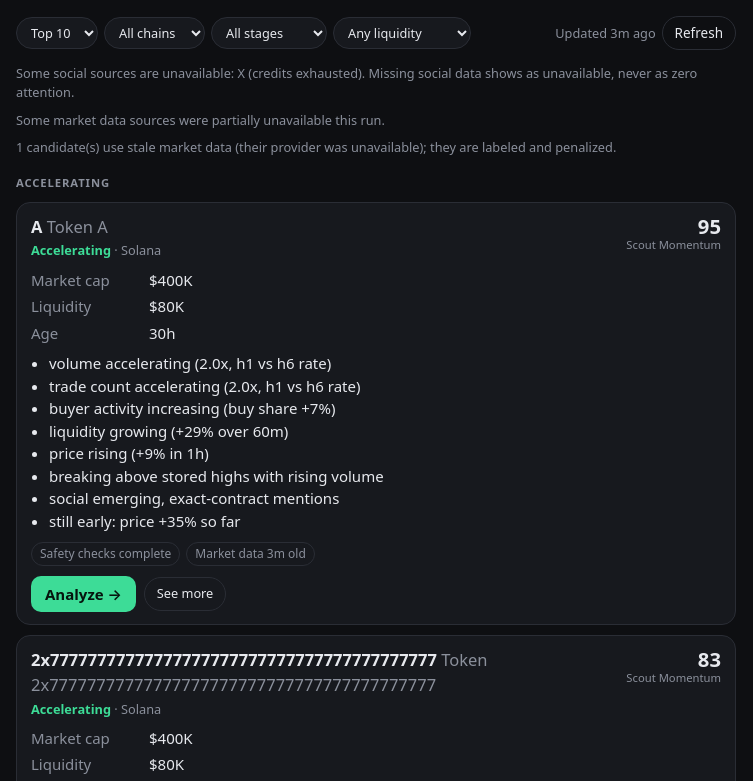
Test: Scout refresh › keeps the last results when a refresh fails
Expected: the text "A" is shown, top-left (31, 215), bottom-right (42, 238)
Click the button "Refresh": x=699, y=33 top-left (662, 16), bottom-right (736, 50)
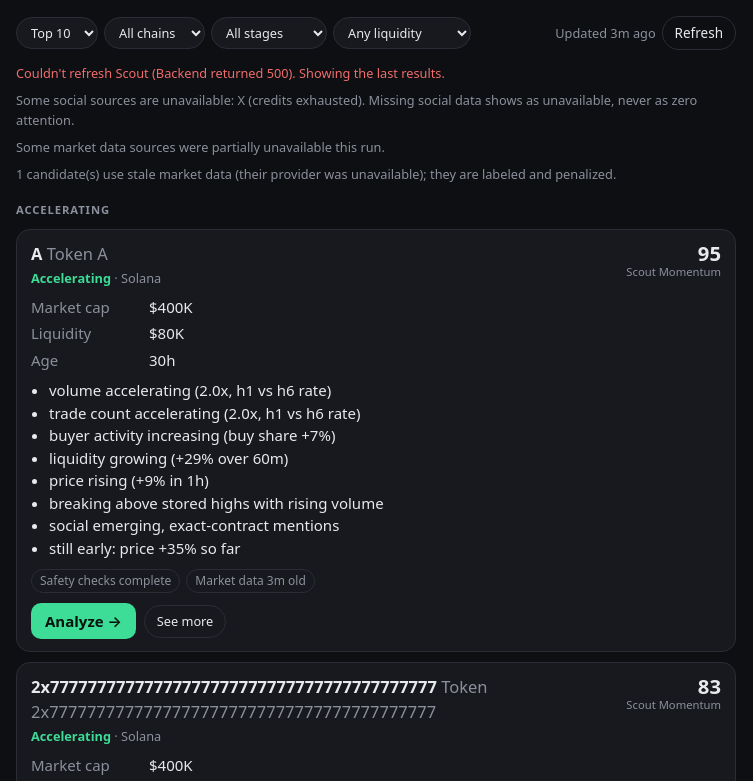
Expected: the text "A" is shown, top-left (31, 242), bottom-right (42, 265)
Expected: the text "Couldn't refresh Scout (Backend returned 500). Showing the last results." is shown, top-left (16, 64), bottom-right (445, 82)
